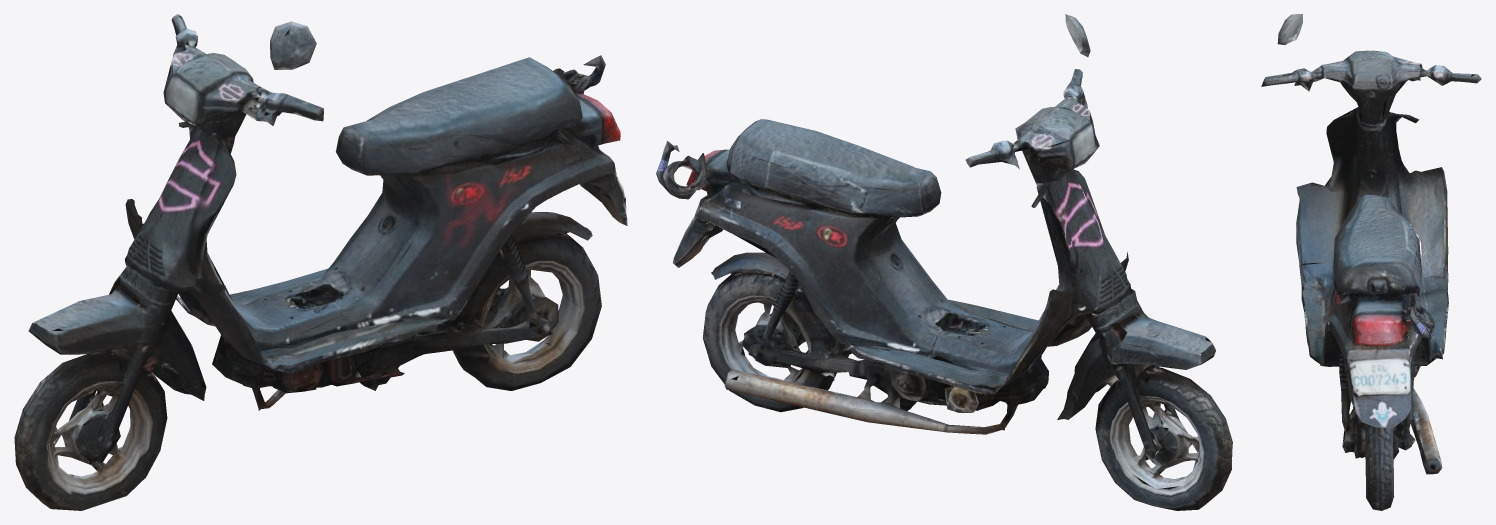
Rendered from derbi.glb.
3 renders of one model, left to right at view 1: azimuth 30°, elevation 25°; view 2: azimuth 150°, elevation 25°; view 3: azimuth 270°, elevation 25°, orthographic. The views are drawn at different scales.
Visible parts, largest first — view 1: BIKE, HEAD, REAR; view 2: BIKE, HEAD, REAR; view 3: BIKE, HEAD, REAR.
Part boxes in pixels (x1,y1,x2,y2): BIKE: (125, 55, 627, 373); HEAD: (14, 14, 323, 510); REAR: (212, 212, 601, 410); BIKE: (656, 119, 1130, 395); HEAD: (965, 14, 1232, 510); REAR: (703, 252, 1048, 434); BIKE: (1296, 107, 1448, 428); HEAD: (1261, 14, 1481, 129); REAR: (1339, 348, 1441, 510).
Bounding box in the file's own units: 191 × 142 × 74.18.
1 material, 1 textured.
